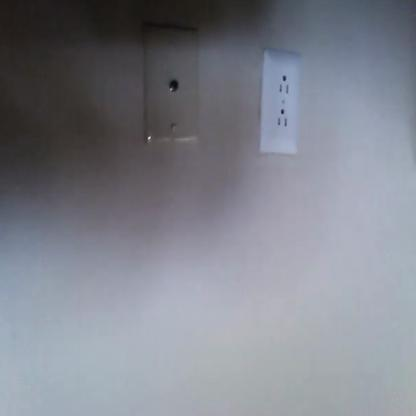OUTLET: (262, 53, 302, 154)
